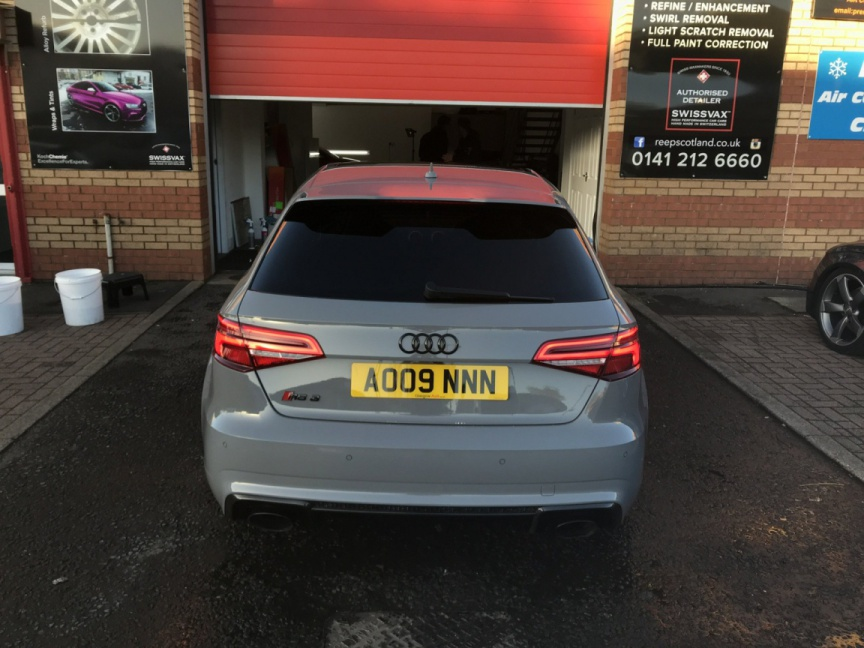audi: (390, 326, 461, 358)
